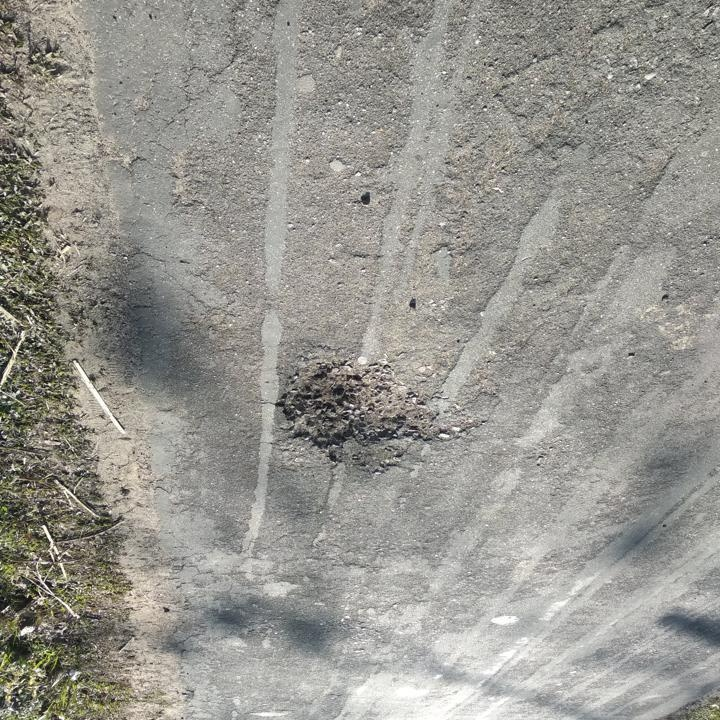pothole: (275, 353, 465, 472)
